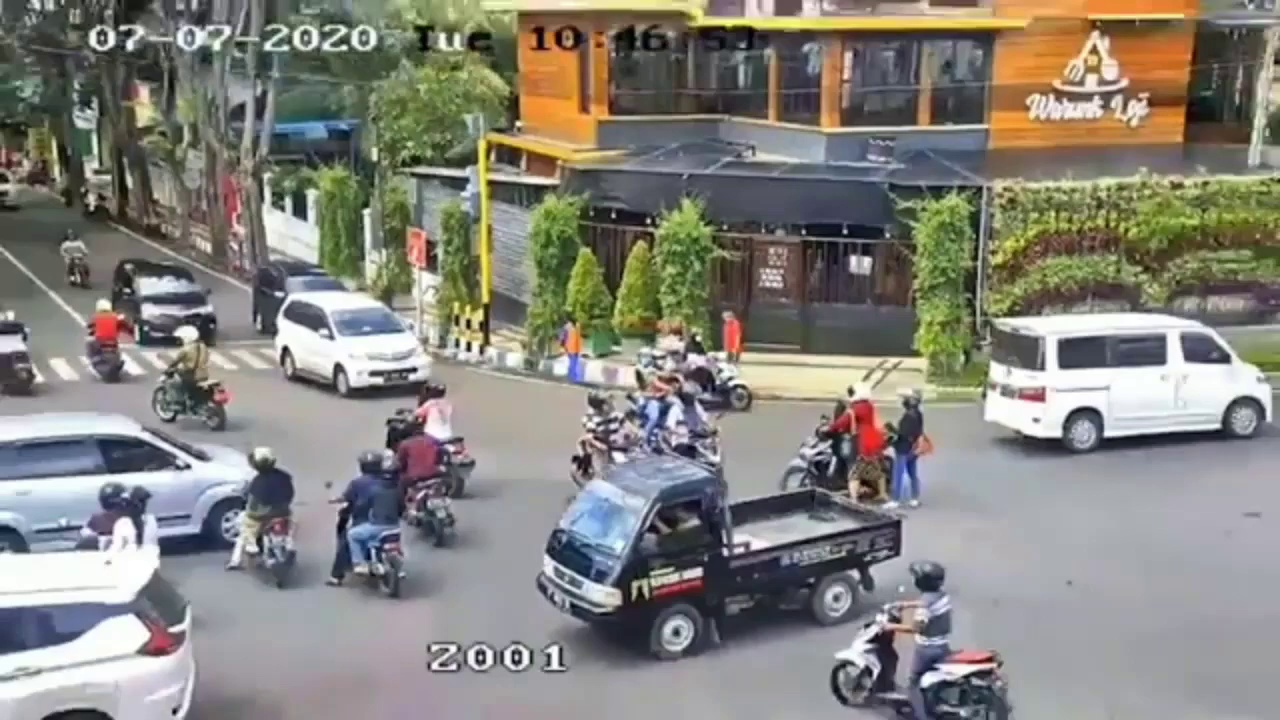car: (544, 452, 916, 650), (987, 310, 1280, 456), (1, 414, 271, 570), (1, 542, 202, 717), (275, 286, 430, 404), (254, 257, 346, 351)
motorbike: (834, 564, 1007, 715), (783, 390, 902, 506), (332, 454, 403, 601), (656, 380, 729, 506), (382, 410, 452, 540), (238, 445, 297, 590), (150, 326, 229, 432), (665, 330, 752, 415), (408, 383, 470, 500), (576, 390, 633, 505), (83, 488, 158, 575), (1, 315, 44, 398), (89, 296, 124, 384), (59, 230, 89, 290)
